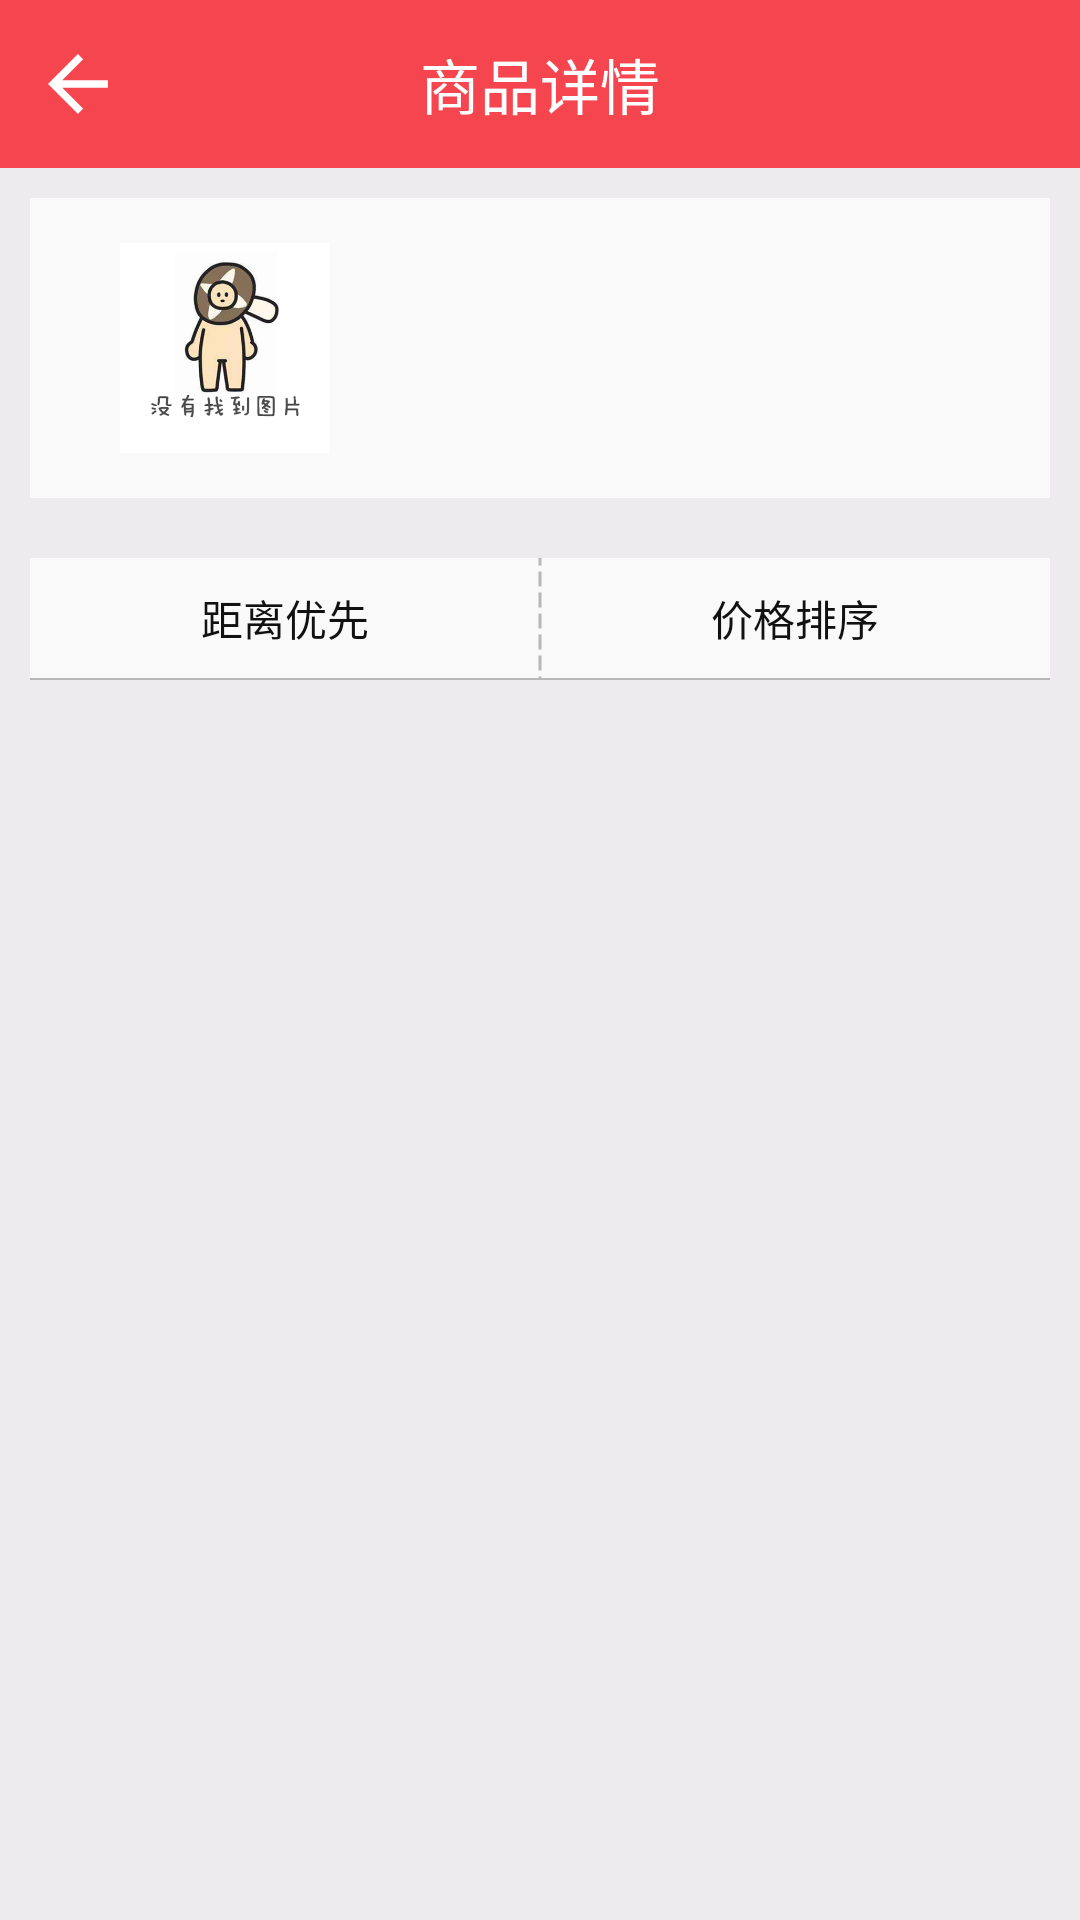

Icons on this 1080px x 1920px Android screen, each with its box as bbox=[x1, y1, x2, y2]:
back: bbox=[48, 54, 108, 114]
